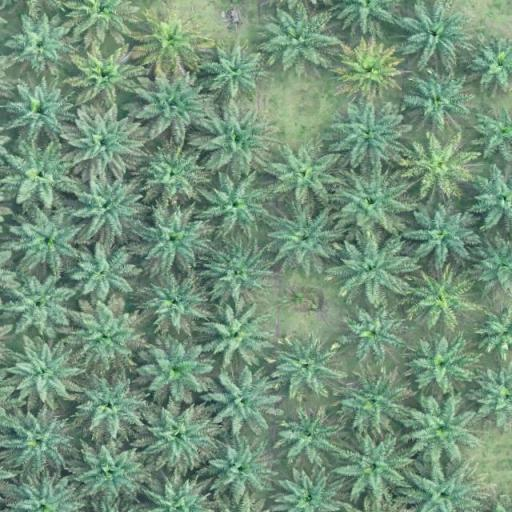Ganoderma: (349, 50, 391, 90), (148, 22, 194, 58), (421, 146, 462, 184)
